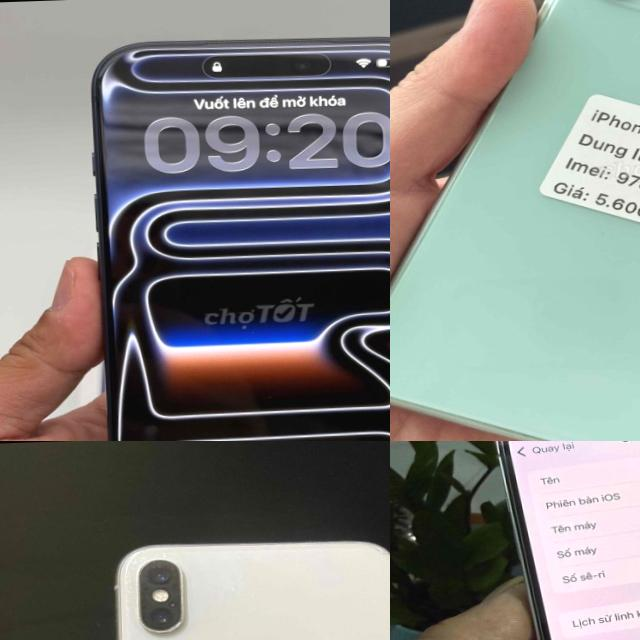gen_11: (390, 0, 640, 441)
gen_14: (479, 441, 640, 640)
gen_17: (67, 28, 390, 441)
gen_x_xs: (115, 542, 390, 640)
